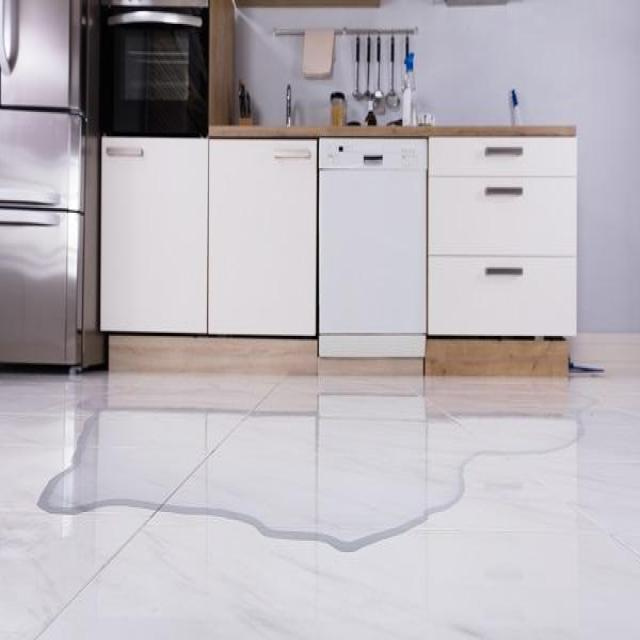dishwasher: (317, 137, 430, 362)
